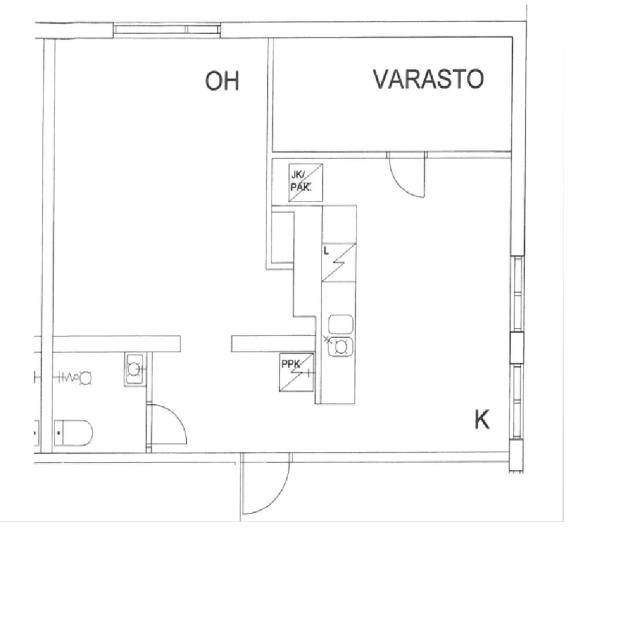door: (240, 454, 292, 520), (386, 149, 428, 204), (146, 399, 192, 449)
window: (112, 21, 223, 41), (504, 252, 530, 337), (421, 147, 514, 166), (506, 362, 527, 444)
zone: (53, 32, 271, 341), (316, 152, 519, 456), (272, 36, 514, 152), (155, 346, 317, 452), (49, 346, 149, 453)
